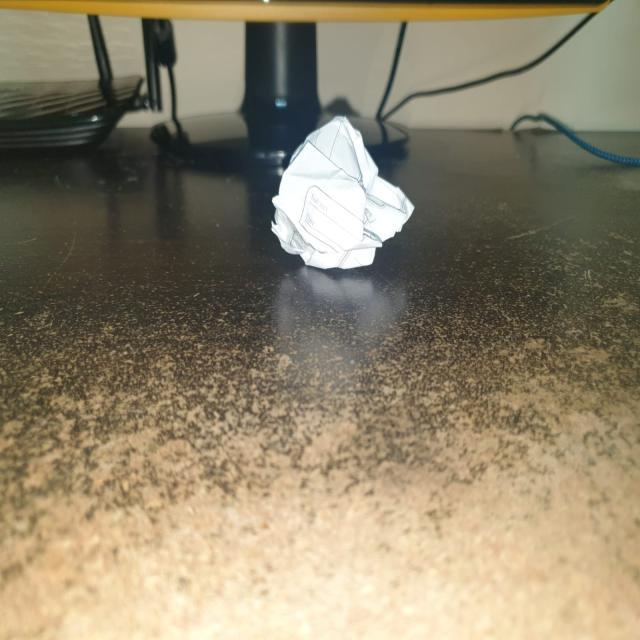Paper: (277, 119, 414, 267)
